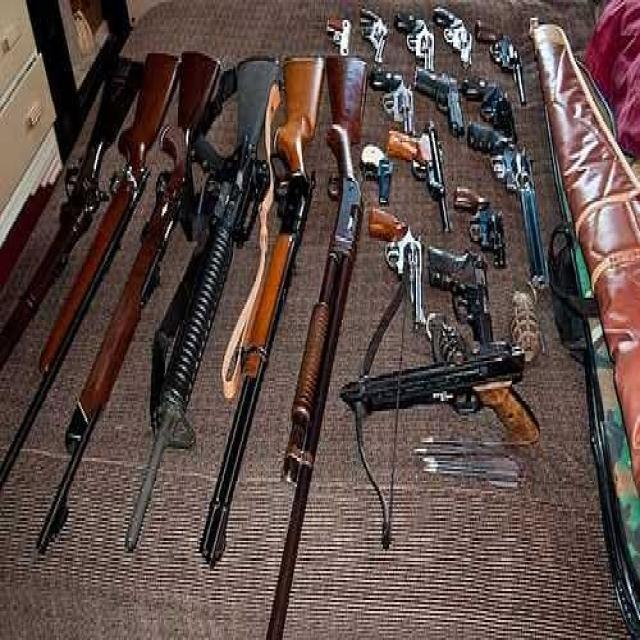heavyweapon: (29, 57, 234, 561), (120, 55, 295, 584), (200, 16, 337, 590), (5, 57, 181, 492), (267, 43, 388, 640), (342, 268, 550, 548), (1, 43, 155, 363)
